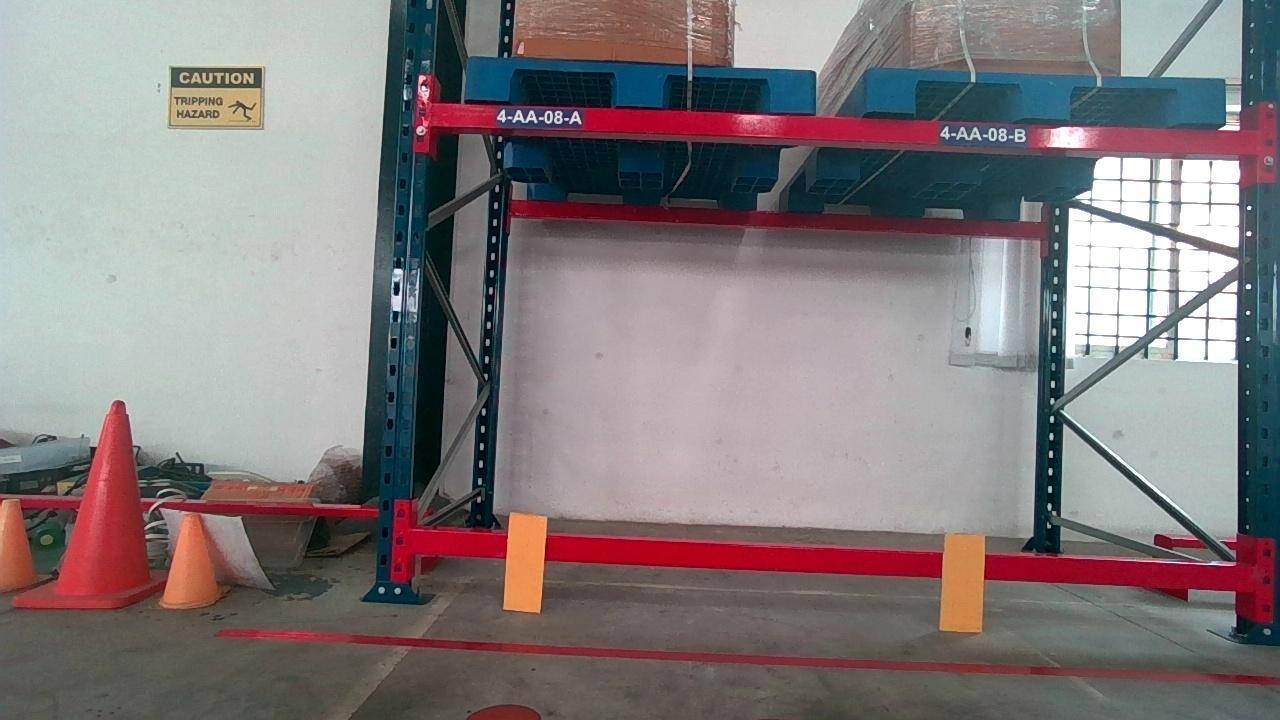h_rack: (404, 532, 1267, 585), (459, 105, 1250, 147)
orange_strip: (941, 531, 985, 631), (503, 512, 546, 609)
small_pallet: (866, 70, 1224, 120), (469, 60, 812, 107)
